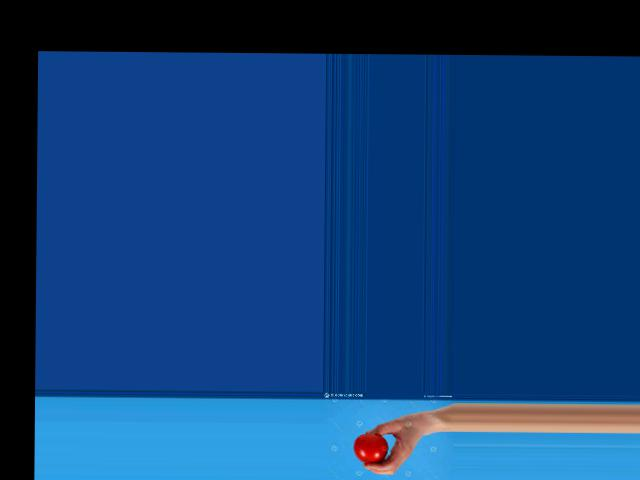tomato: (354, 433, 388, 463)
